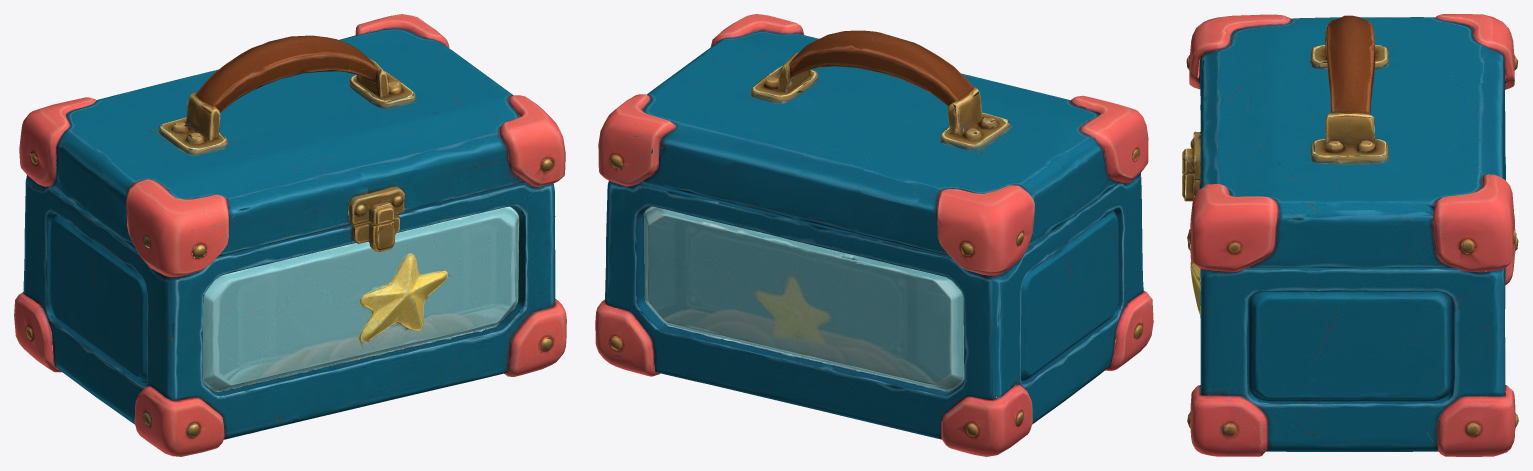
3 views of the same model, side by side, from view 1: azimuth 30°, elevation 25°; view 2: azimuth 150°, elevation 25°; view 3: azimuth 270°, elevation 25° (orthographic). The views are drawn at different scales.
Visible parts, largest first — view 1: lid, body, window, bumper, handle; view 2: body, lid, bumper, handle; view 3: lid, body, bumper, handle, window.
Boxes of the visible parts, x1,y1,x2,y2 form: lid: (31,27,553,436); body: (23,88,555,439); window: (202,197,519,397); bumper: (14,14,566,456); handle: (25,35,554,437); body: (604,77,1143,439); lid: (642,30,1142,421); bumper: (595,14,1153,456); handle: (609,30,1142,437); lid: (1182,17,1505,432); body: (1182,61,1506,451); bumper: (1189,14,1515,456); handle: (1183,15,1518,436); window: (1190,140,1200,318).
Bounding box in the file's own units: 1.9 × 1.44 × 1.32.
5 materials, 5 textured.
